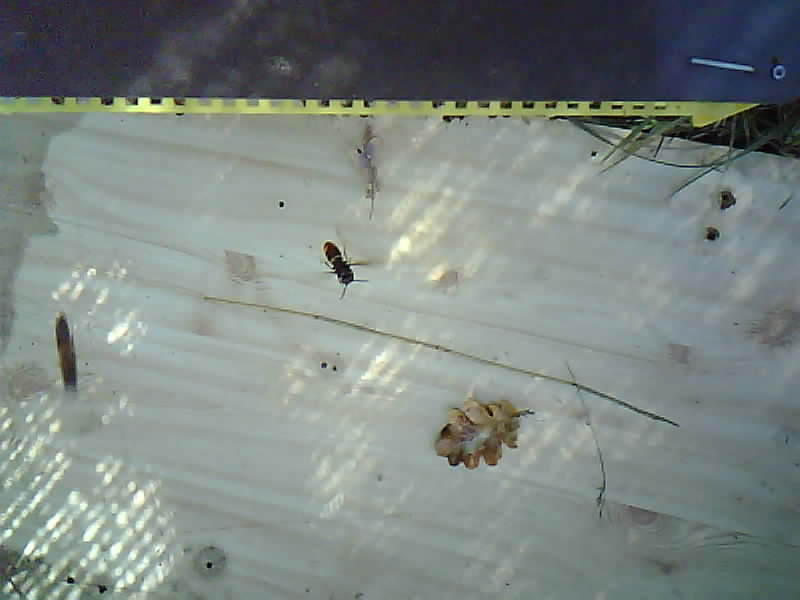hornet: (317, 235, 359, 285)
